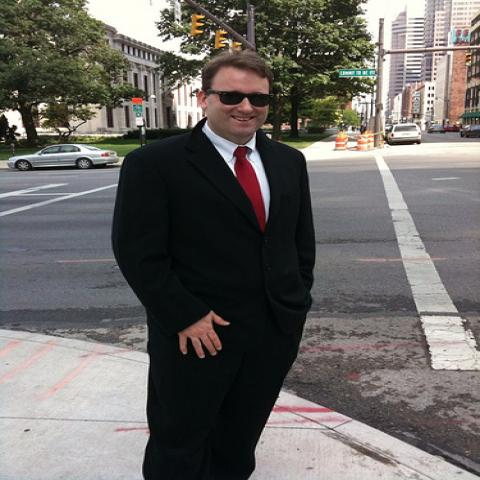car: (7, 143, 119, 171), (386, 123, 422, 145), (458, 124, 479, 138), (427, 123, 448, 134), (444, 124, 460, 132), (385, 124, 392, 131)
